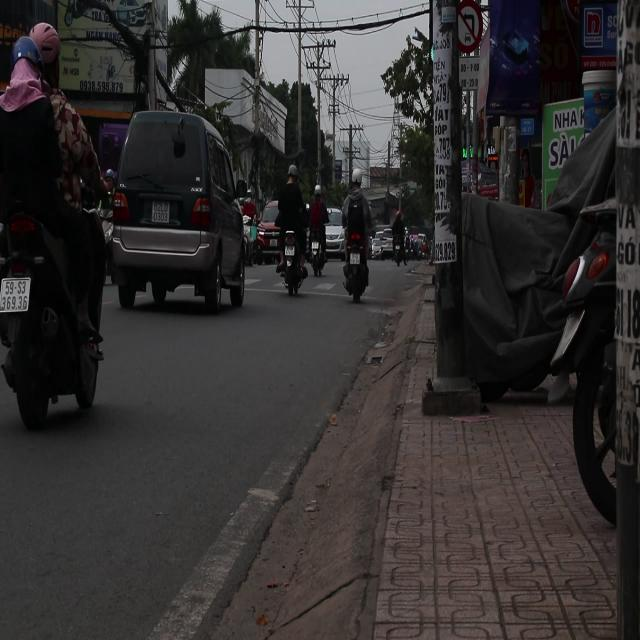car: (108, 112, 250, 314), (369, 234, 392, 262)
motorbike: (0, 206, 106, 426), (274, 229, 310, 296), (345, 230, 367, 310), (255, 206, 283, 266)
